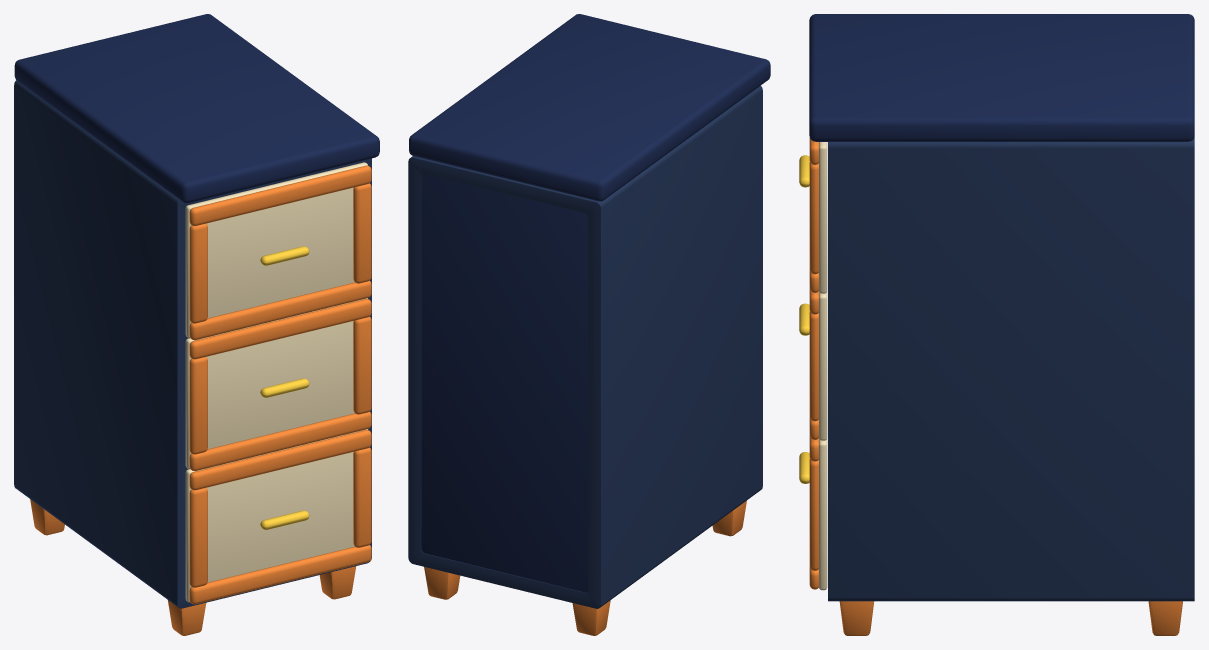
File: gaveteiro_cozinha_3gavetas_grafite_noite.glb
3 views of the same model, side by side, from view 1: azimuth 30°, elevation 25°; view 2: azimuth 150°, elevation 25°; view 3: azimuth 270°, elevation 25° (orthographic). The views are drawn at different scales.
Visible parts, largest first — view 1: gaveteiro_cozinha_3gavetas_grafite_noite, gaveta_1, gaveta_3, gaveta_2; view 2: gaveteiro_cozinha_3gavetas_grafite_noite; view 3: gaveteiro_cozinha_3gavetas_grafite_noite, gaveta_1, gaveta_3, gaveta_2.
Boxes of the visible parts, x1,y1,x2,y2 form: gaveteiro_cozinha_3gavetas_grafite_noite: [14, 14, 379, 635]; gaveta_1: [185, 162, 371, 340]; gaveta_3: [185, 429, 371, 604]; gaveta_2: [185, 298, 371, 471]; gaveteiro_cozinha_3gavetas_grafite_noite: [408, 14, 770, 635]; gaveteiro_cozinha_3gavetas_grafite_noite: [809, 14, 1194, 635]; gaveta_1: [799, 137, 827, 293]; gaveta_3: [799, 436, 827, 590]; gaveta_2: [799, 289, 827, 440].
Size of the model in its own units: 0.398 by 0.9 by 0.6147.
Materials: 1 (1 with a texture image).
